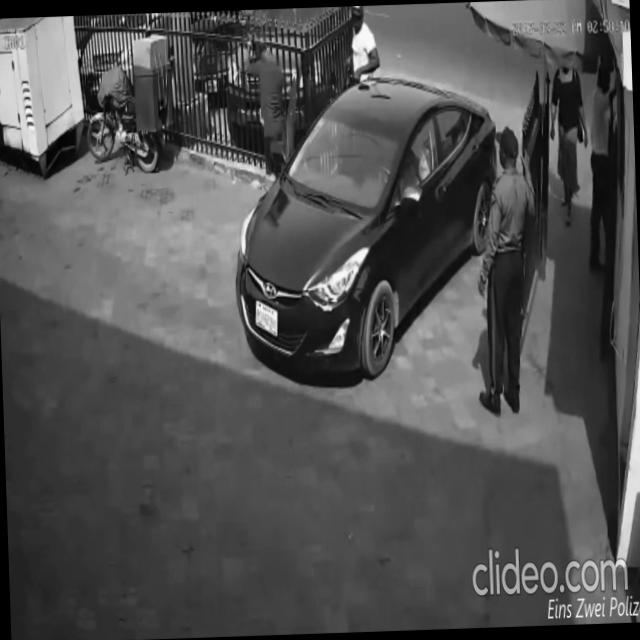gun: (236, 22, 262, 62)
person: (470, 123, 545, 420), (580, 61, 626, 276), (544, 54, 594, 230), (342, 2, 382, 96)
person with a gun: (236, 21, 294, 206)
